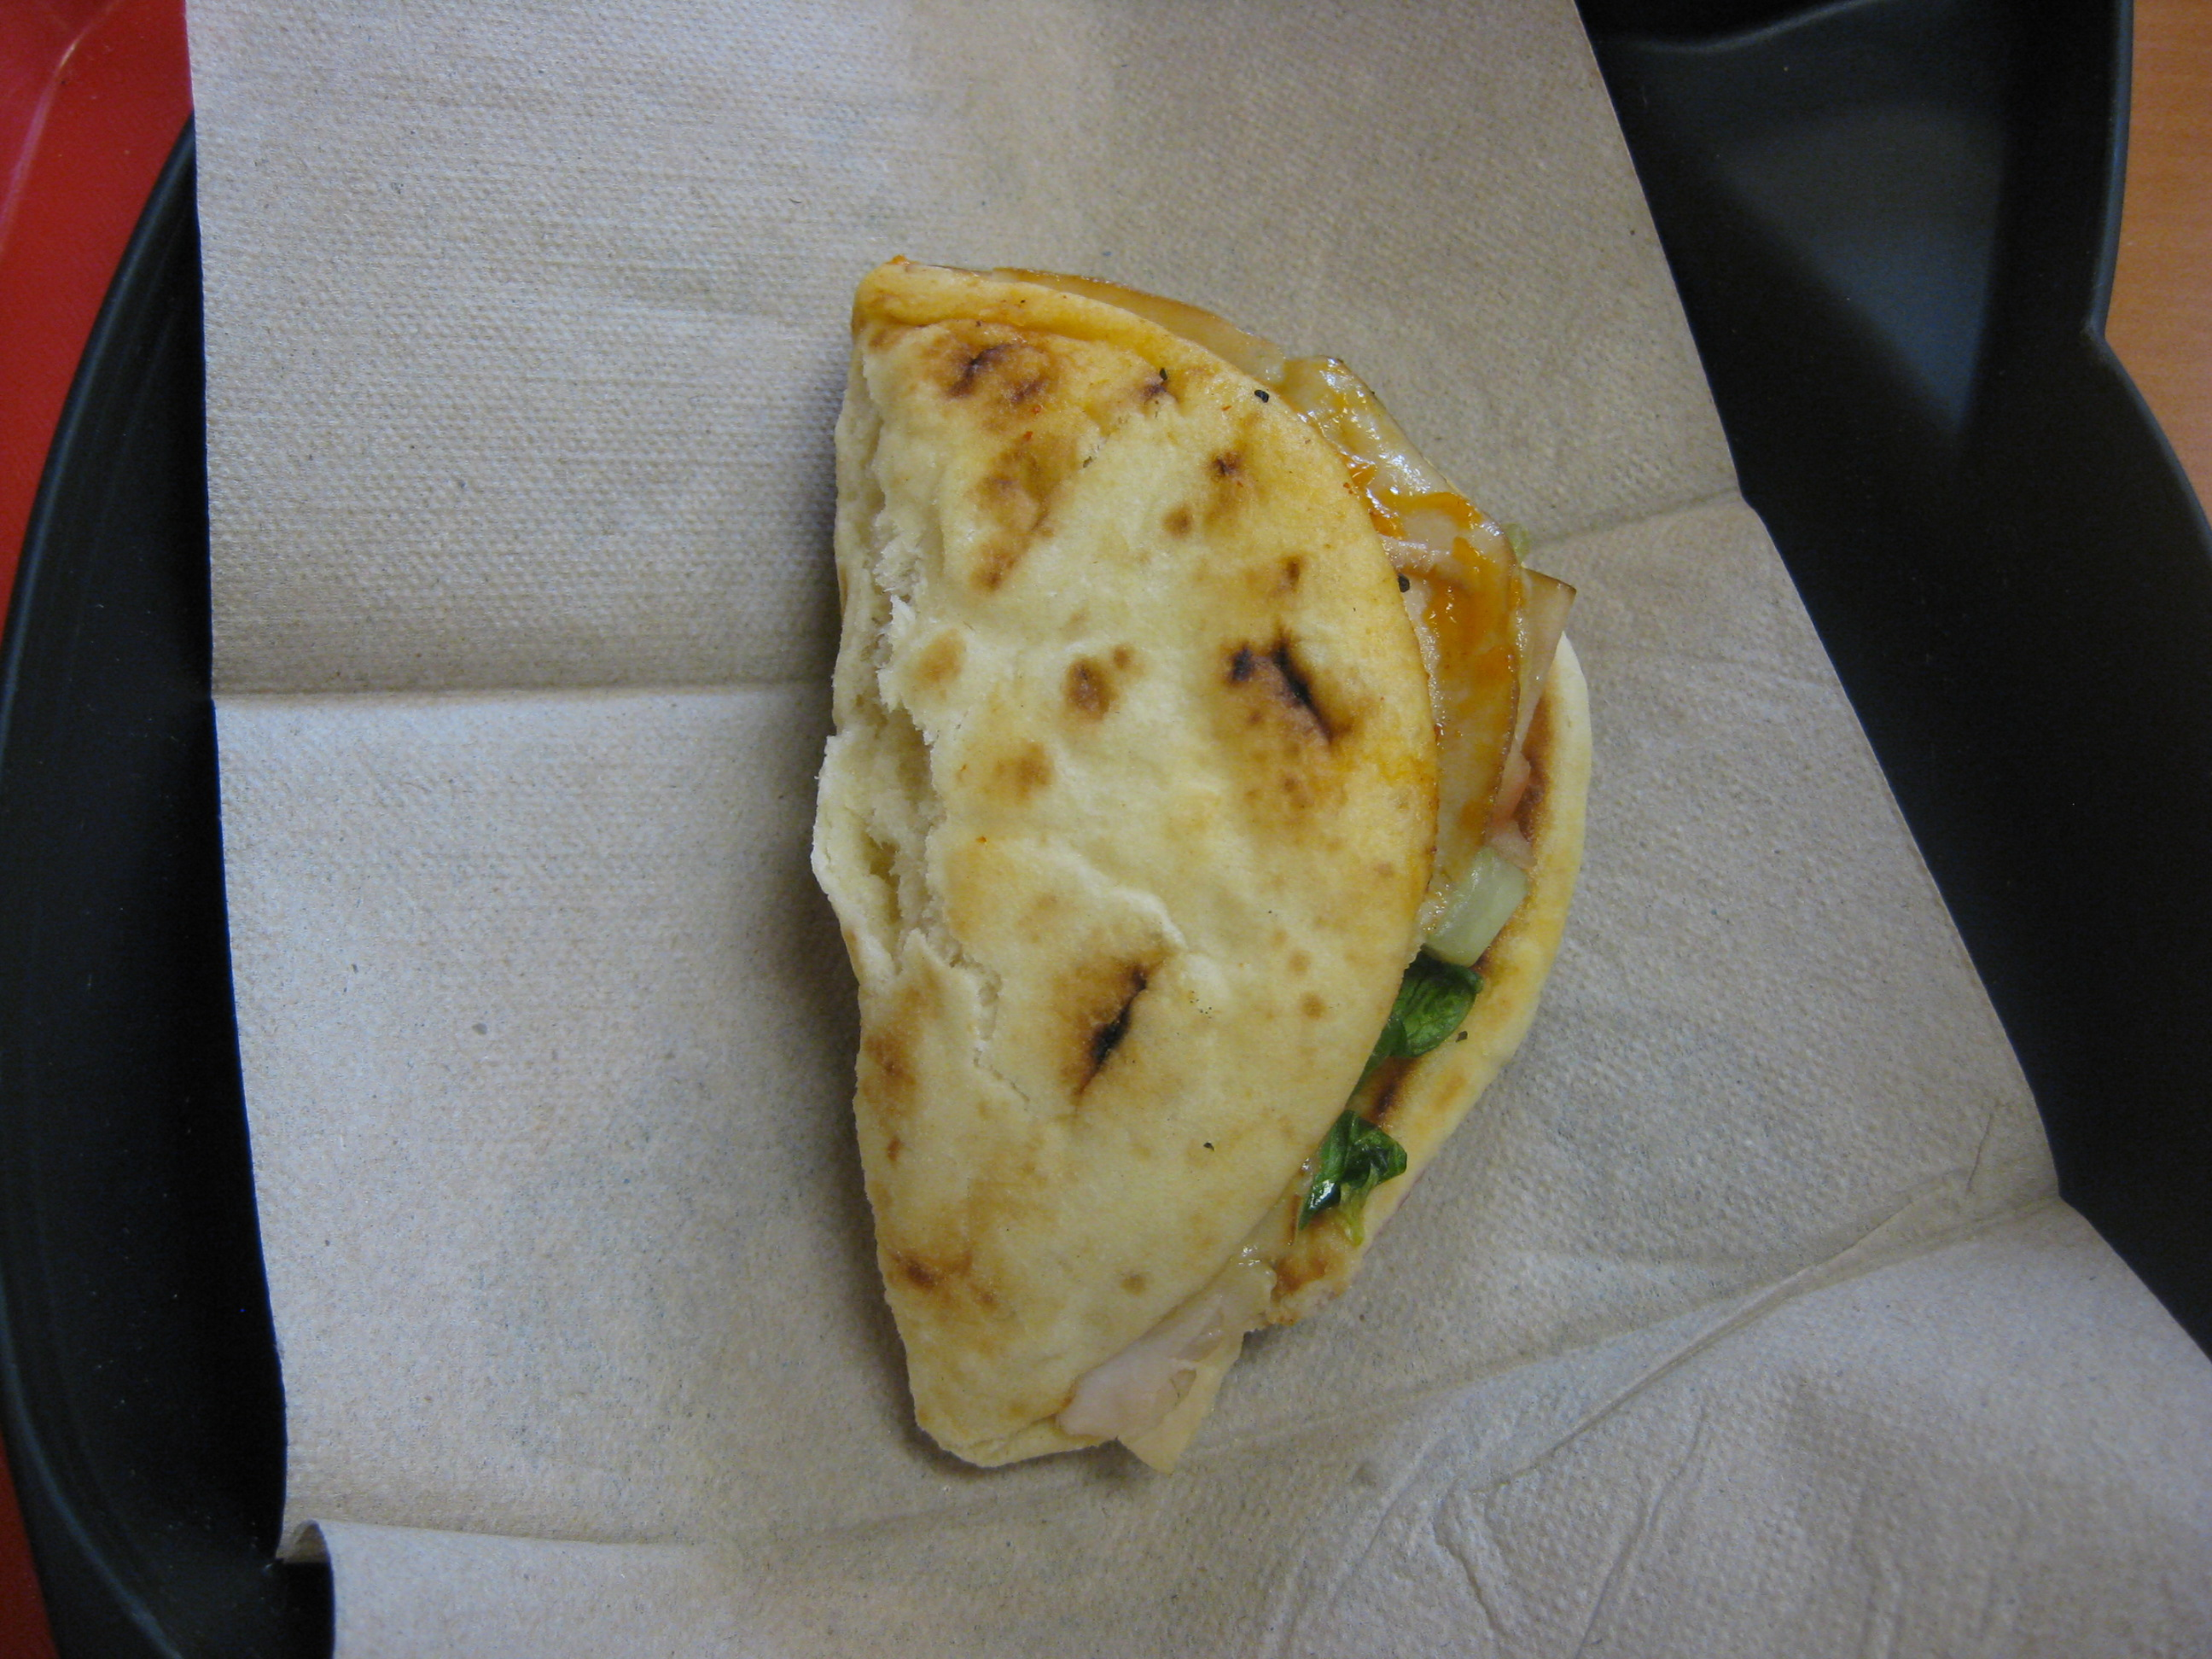taco: (808, 183, 1644, 1484)
